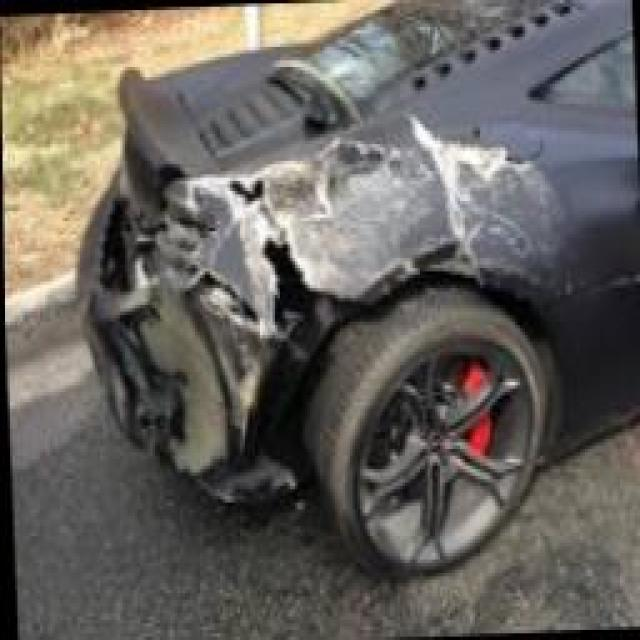Bumper: (69, 185, 302, 496)
Fender: (152, 100, 612, 327)
